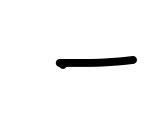minus: (56, 56, 137, 69)
